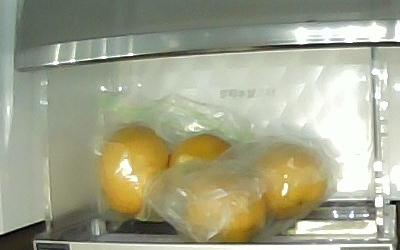pear_vinyl: (96, 123, 170, 215), (247, 140, 327, 219), (184, 168, 267, 243), (167, 132, 234, 187)
